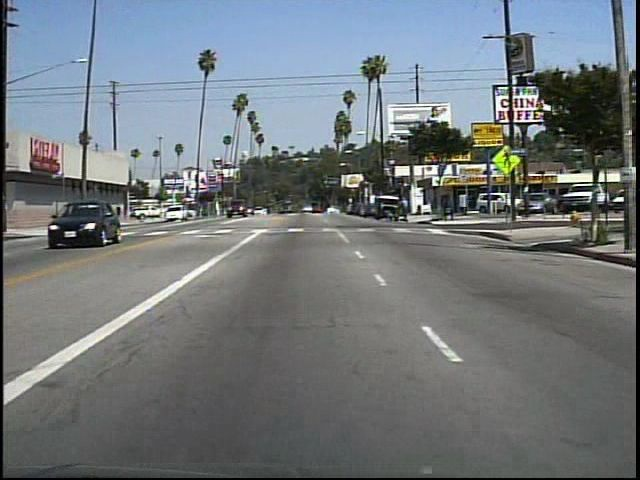person: (398, 194, 413, 225), (111, 199, 125, 224), (383, 208, 399, 227)
